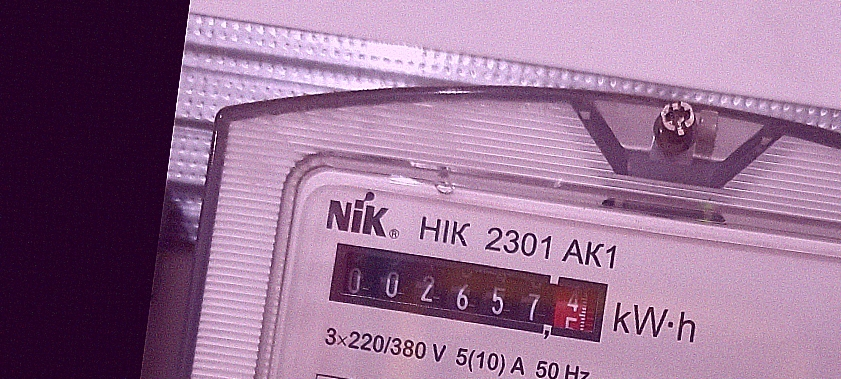0: (382, 267, 401, 299), (344, 264, 364, 294)
2: (417, 272, 437, 303)
4: (564, 285, 582, 312)
5: (488, 284, 507, 316), (562, 314, 579, 330)
6: (453, 280, 471, 311)
7: (523, 289, 542, 322)
screen: (317, 230, 621, 354)
